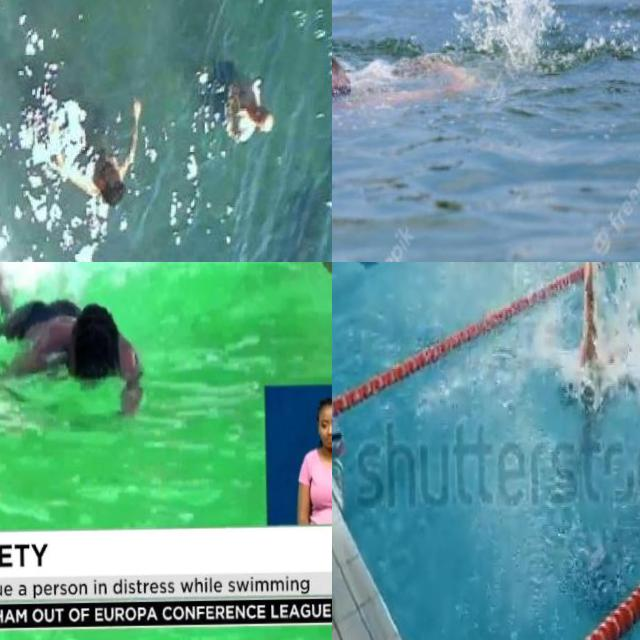drowning: (332, 0, 480, 170)
swimming: (0, 262, 159, 434), (557, 262, 640, 442), (39, 96, 154, 217), (203, 57, 281, 151)
